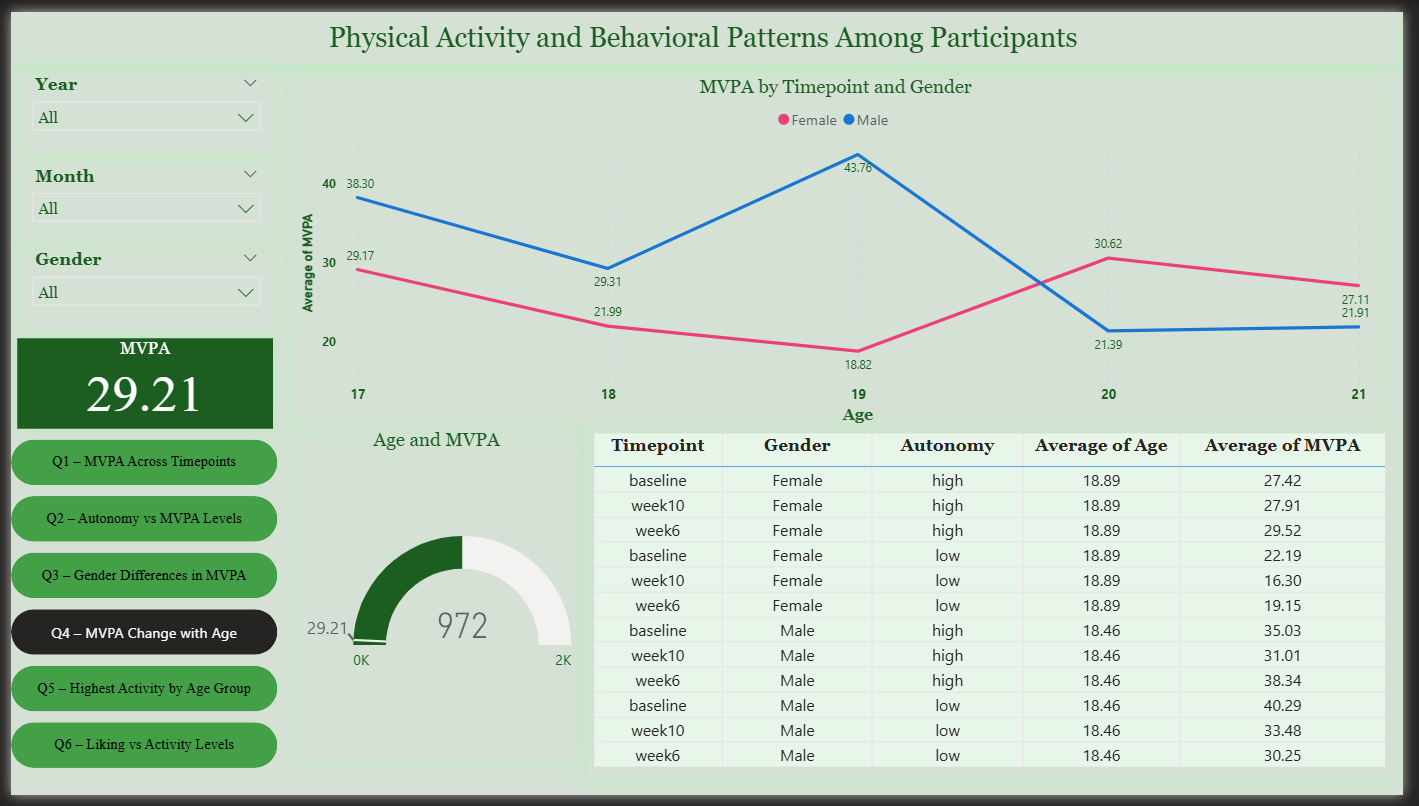

The dashboard page shown, as its layout file describes it:
{"tool":"powerbi","page":{"name":"Q4 – MVPA Change with Age","canvas":[1280,720],"ordinal":3},"visuals":[{"type":"textbox","title":"Physical Activity and Behavioral Patterns Among Participants","box":[0,9.7,1272.8,37.4],"z":0},{"type":"slicer","fields":{"Values":["ActivityData_Clean.File_Date.Variation.Date Hierarchy.Year"]},"box":[8.7,53.1,229.8,78.9],"z":0,"group":"g1"},{"type":"lineChart","title":"MVPA by Timepoint and Gender","fields":{"Y":["Avg(ActivityData_Clean.MVPA)"],"Category":["Demographics_Clean.Age"],"Series":["Demographics_Clean.Gender"]},"box":[262.3,58.4,992.2,324.7],"z":1000},{"type":"slicer","fields":{"Values":["ActivityData_Clean.File_Date.Variation.Date Hierarchy.Month"]},"box":[8.7,136.8,229.8,78.9],"z":1000,"group":"g1"},{"type":"slicer","fields":{"Values":["ActivityData_Clean.Gender"]},"box":[9.1,214.3,229.9,79.2],"z":2000,"group":"g1"},{"type":"tableEx","fields":{"Values":["ActivityData_Clean.Timepoint","Demographics_Clean.Gender","ActivityData_Clean.Autonomy","Avg(Demographics_Clean.Age)","Avg(ActivityData_Clean.MVPA)"]},"box":[529.9,383.1,742.9,323.4],"z":2000},{"type":"gauge","fields":{"TargetValue":["Avg(ActivityData_Clean.MVPA)"],"Y":["Sum(Demographics_Clean.Age)"]},"box":[262.3,383.1,258.4,306.5],"z":3000},{"type":"group","id":"g1","title":"Group 1","box":[0,53.1,245.5,648.2],"z":4000},{"type":"kpi","title":"MVPA","fields":{"Indicator":["Avg(ActivityData_Clean.MVPA)"],"TrendLine":["LikingData_Clean.Week"]},"box":[6,299.9,235.1,83.1],"z":5000,"group":"g1"},{"type":"pageNavigator","box":[0,393.5,245.5,307.8],"z":6001,"group":"g1"}]}

Visuals, with their boxes in screenshot pixels (x1, y1, x2, y2), scaled from the page's 1280x720 canvas onto the 1419x806 screenshot:
"Physical Activity and Behavioral Patterns Among Participants" textbox: (x1=0, y1=11, x2=1411, y2=53)
slicer - ActivityData_Clean.File_Date.Variation.Date Hierarchy.Year: (x1=10, y1=59, x2=264, y2=148)
"MVPA by Timepoint and Gender" lineChart: (x1=291, y1=65, x2=1391, y2=429)
slicer - ActivityData_Clean.File_Date.Variation.Date Hierarchy.Month: (x1=10, y1=153, x2=264, y2=241)
slicer - ActivityData_Clean.Gender: (x1=10, y1=240, x2=265, y2=329)
tableEx - ActivityData_Clean.Timepoint x Demographics_Clean.Gender: (x1=587, y1=429, x2=1411, y2=791)
gauge - Avg(ActivityData_Clean.MVPA) x Sum(Demographics_Clean.Age): (x1=291, y1=429, x2=577, y2=772)
"Group 1" group: (x1=0, y1=59, x2=272, y2=785)
"MVPA" kpi: (x1=7, y1=336, x2=267, y2=429)
pageNavigator: (x1=0, y1=441, x2=272, y2=785)
